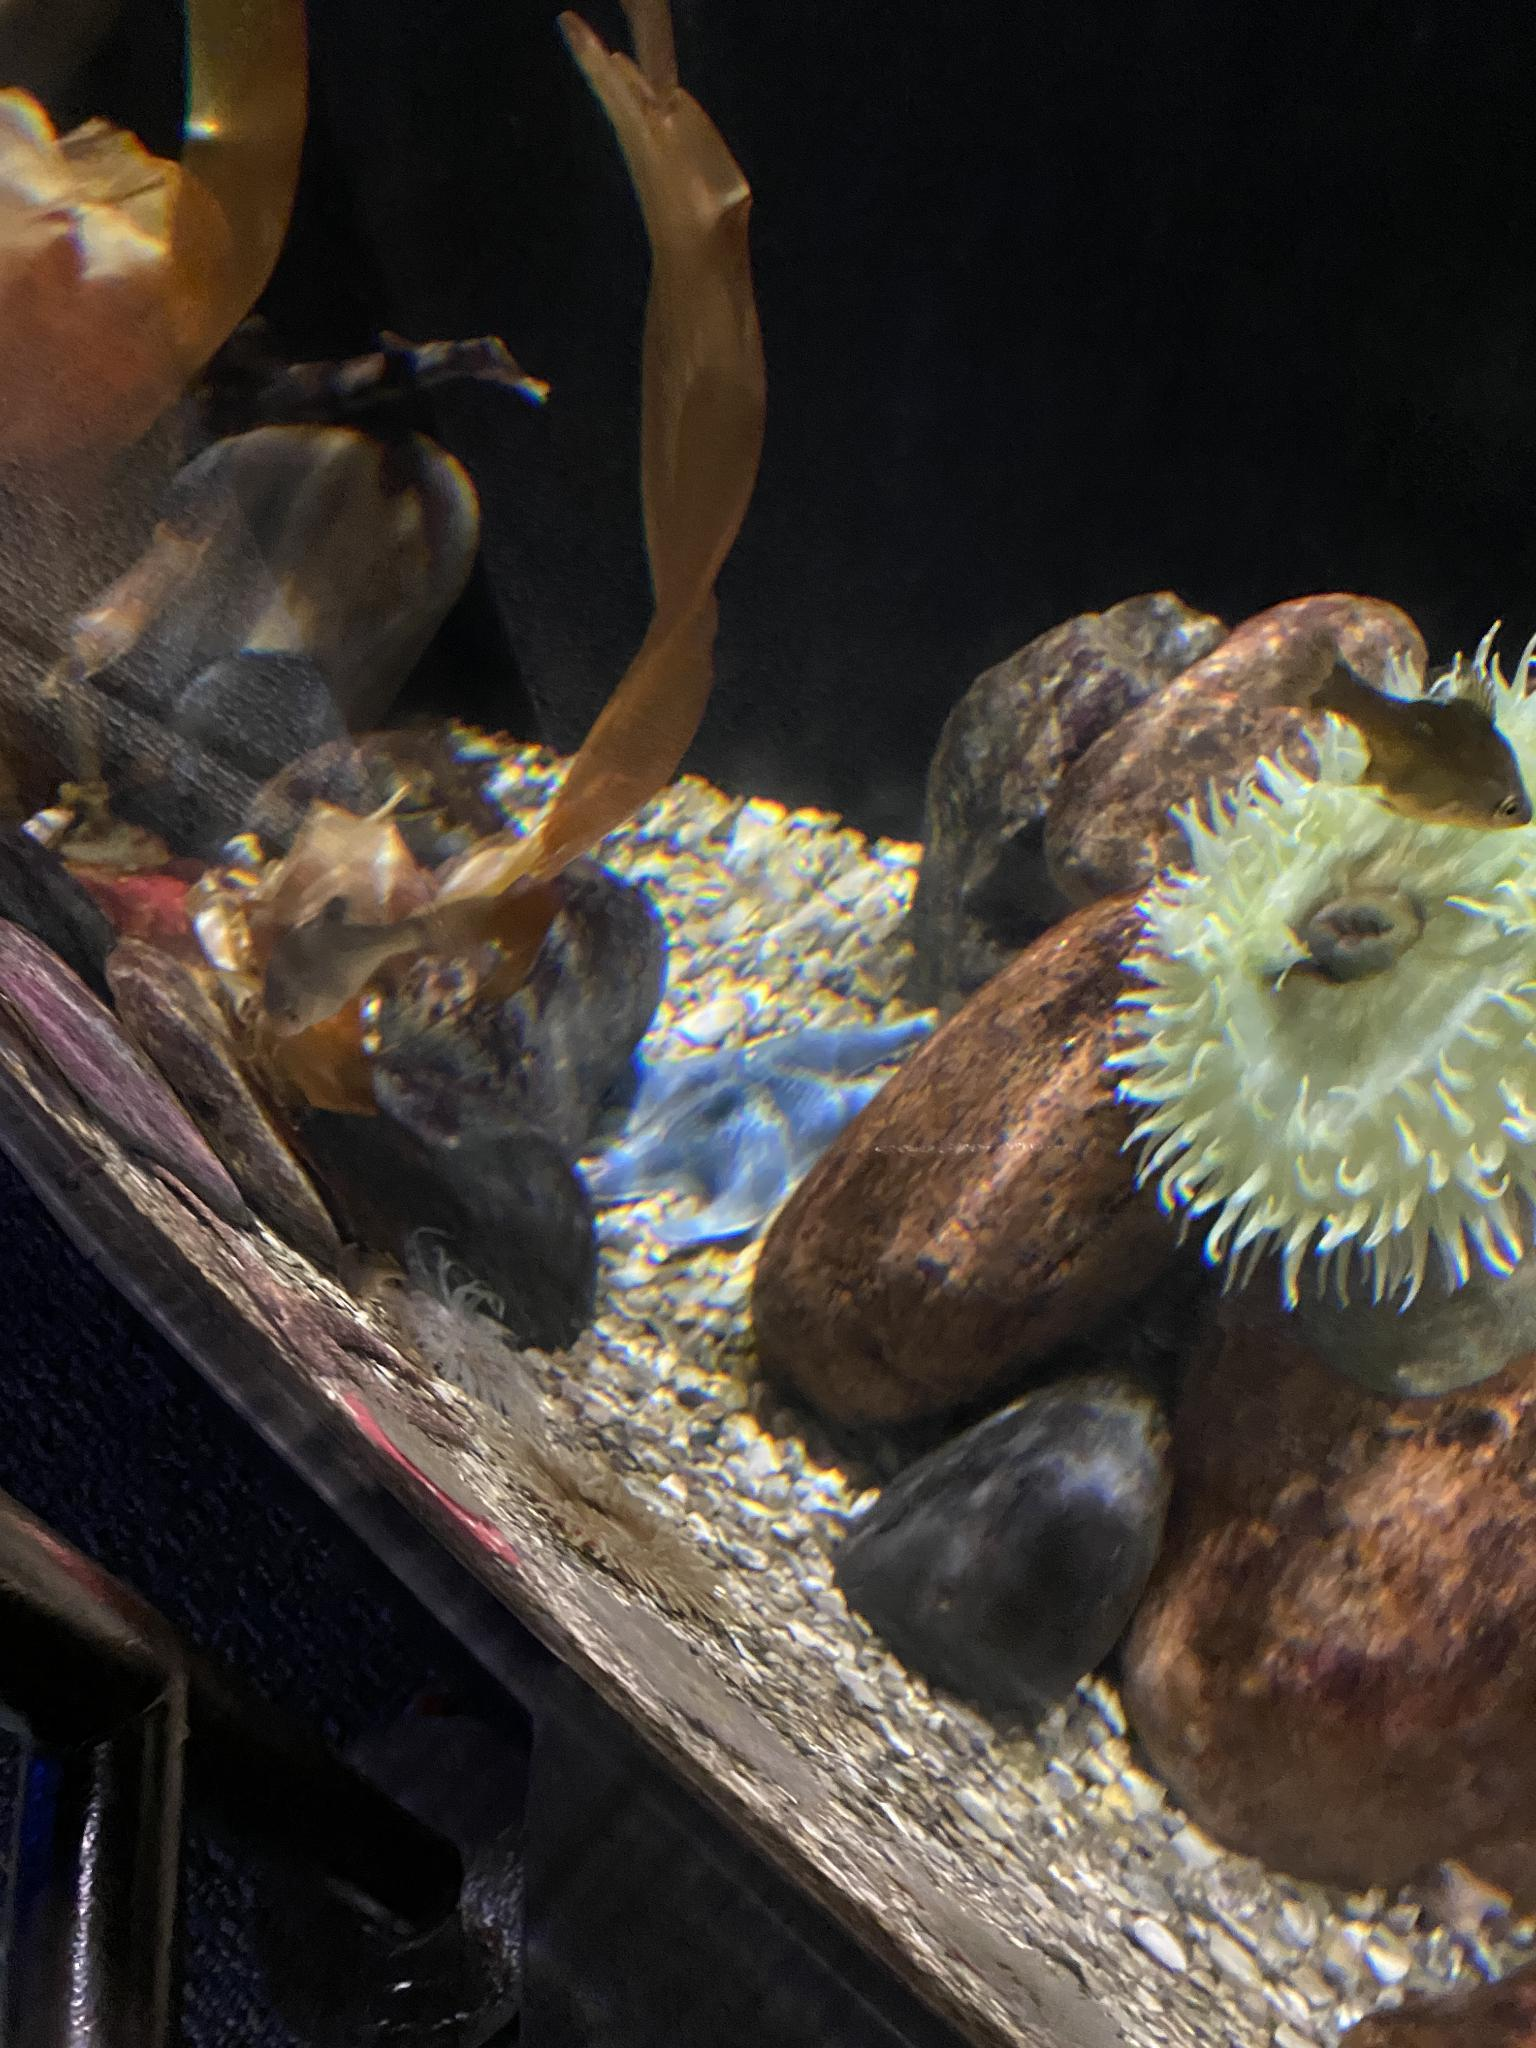fish: (1229, 616, 1534, 834), (260, 895, 442, 1042)
starfish: (579, 1005, 945, 1247)
